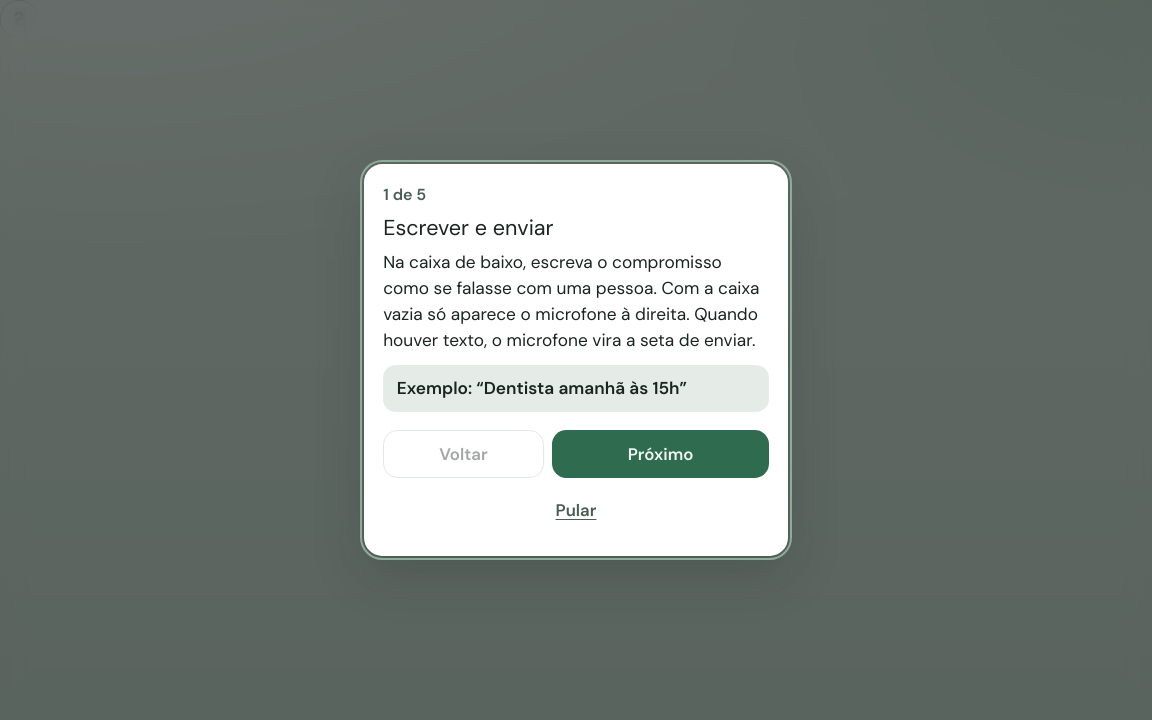
Scenario: tutorial na tela › abre sozinho no primeiro acesso, não reabre depois de pular, e o botão de ajuda reabre
This screenshot has width=1152, height=720.
Check: the dialog is shown, box [364,164,788,556]
Check: the dialog shows "1 de 5", box [383,184,426,205]
Click the button "Pular". click: (576, 511)
box: [383,487,769,535]
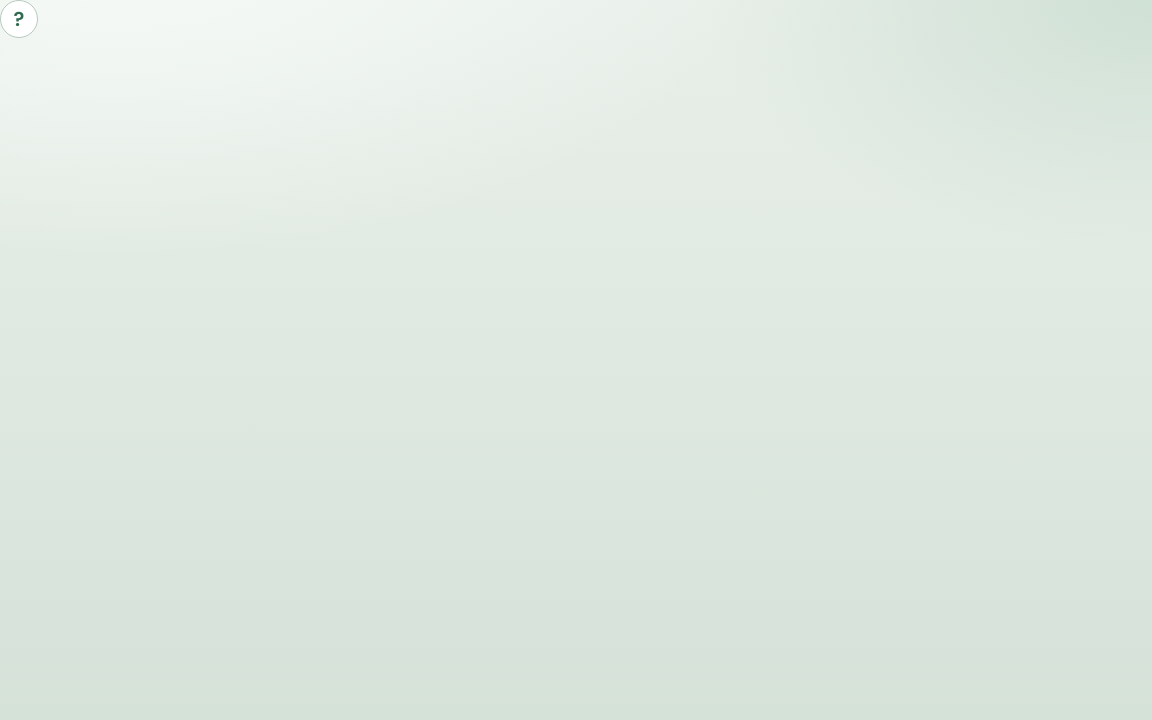
Check: the dialog is gone
Click the button "?". click: (19, 19)
box: [0,0,38,38]
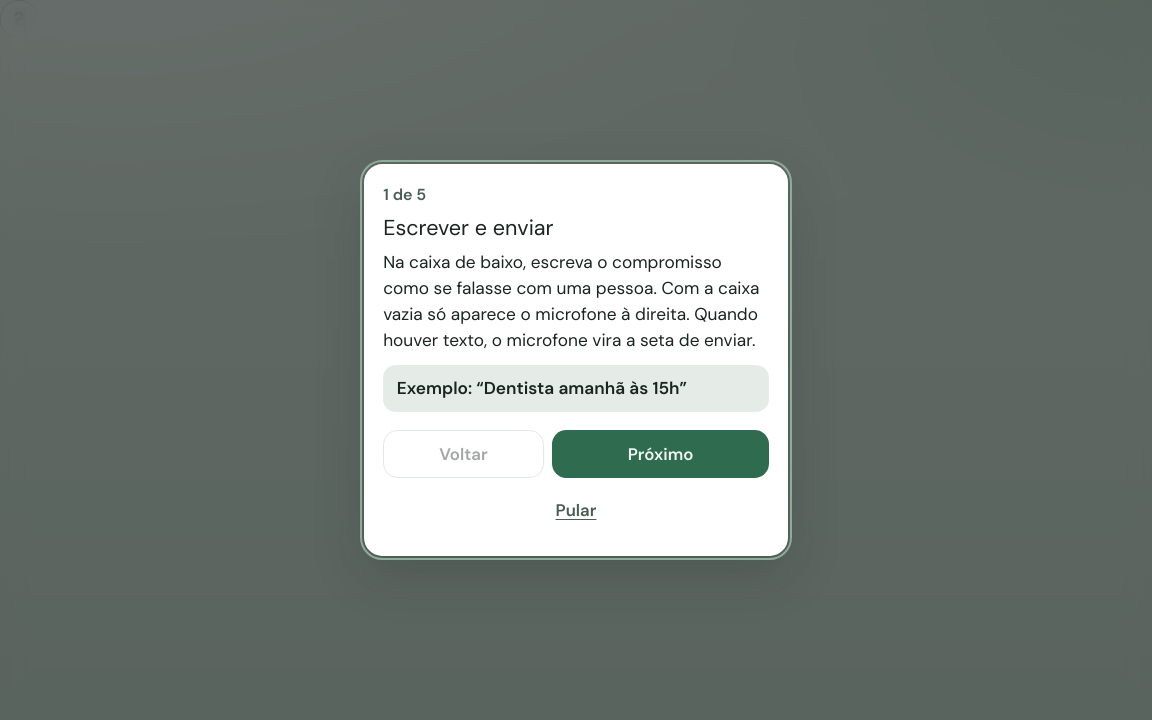
Check: the dialog is shown, box [364,164,788,556]
Check: the dialog shows "Escrever e enviar", box [383,214,554,242]
